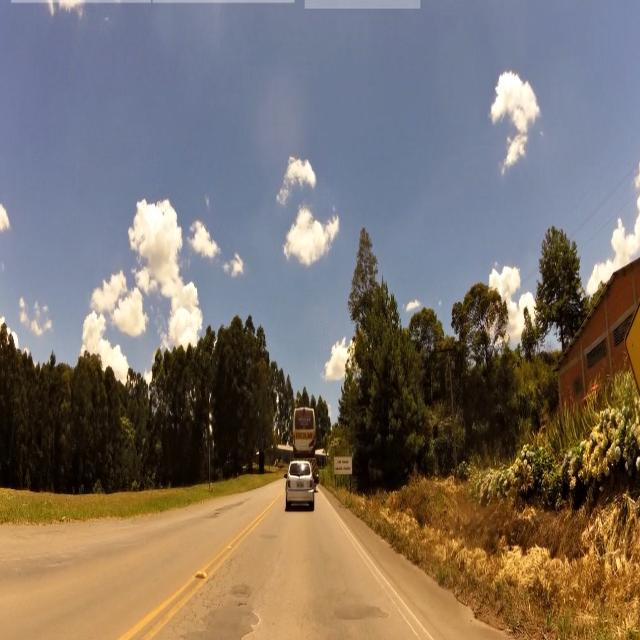E-5: (334, 455, 352, 474)
